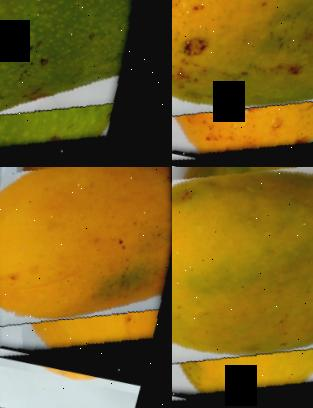PartiallyRipe: (172, 167, 313, 408), (172, 0, 313, 167)
Ripe: (0, 167, 172, 382)
Unripe: (0, 0, 172, 167)
